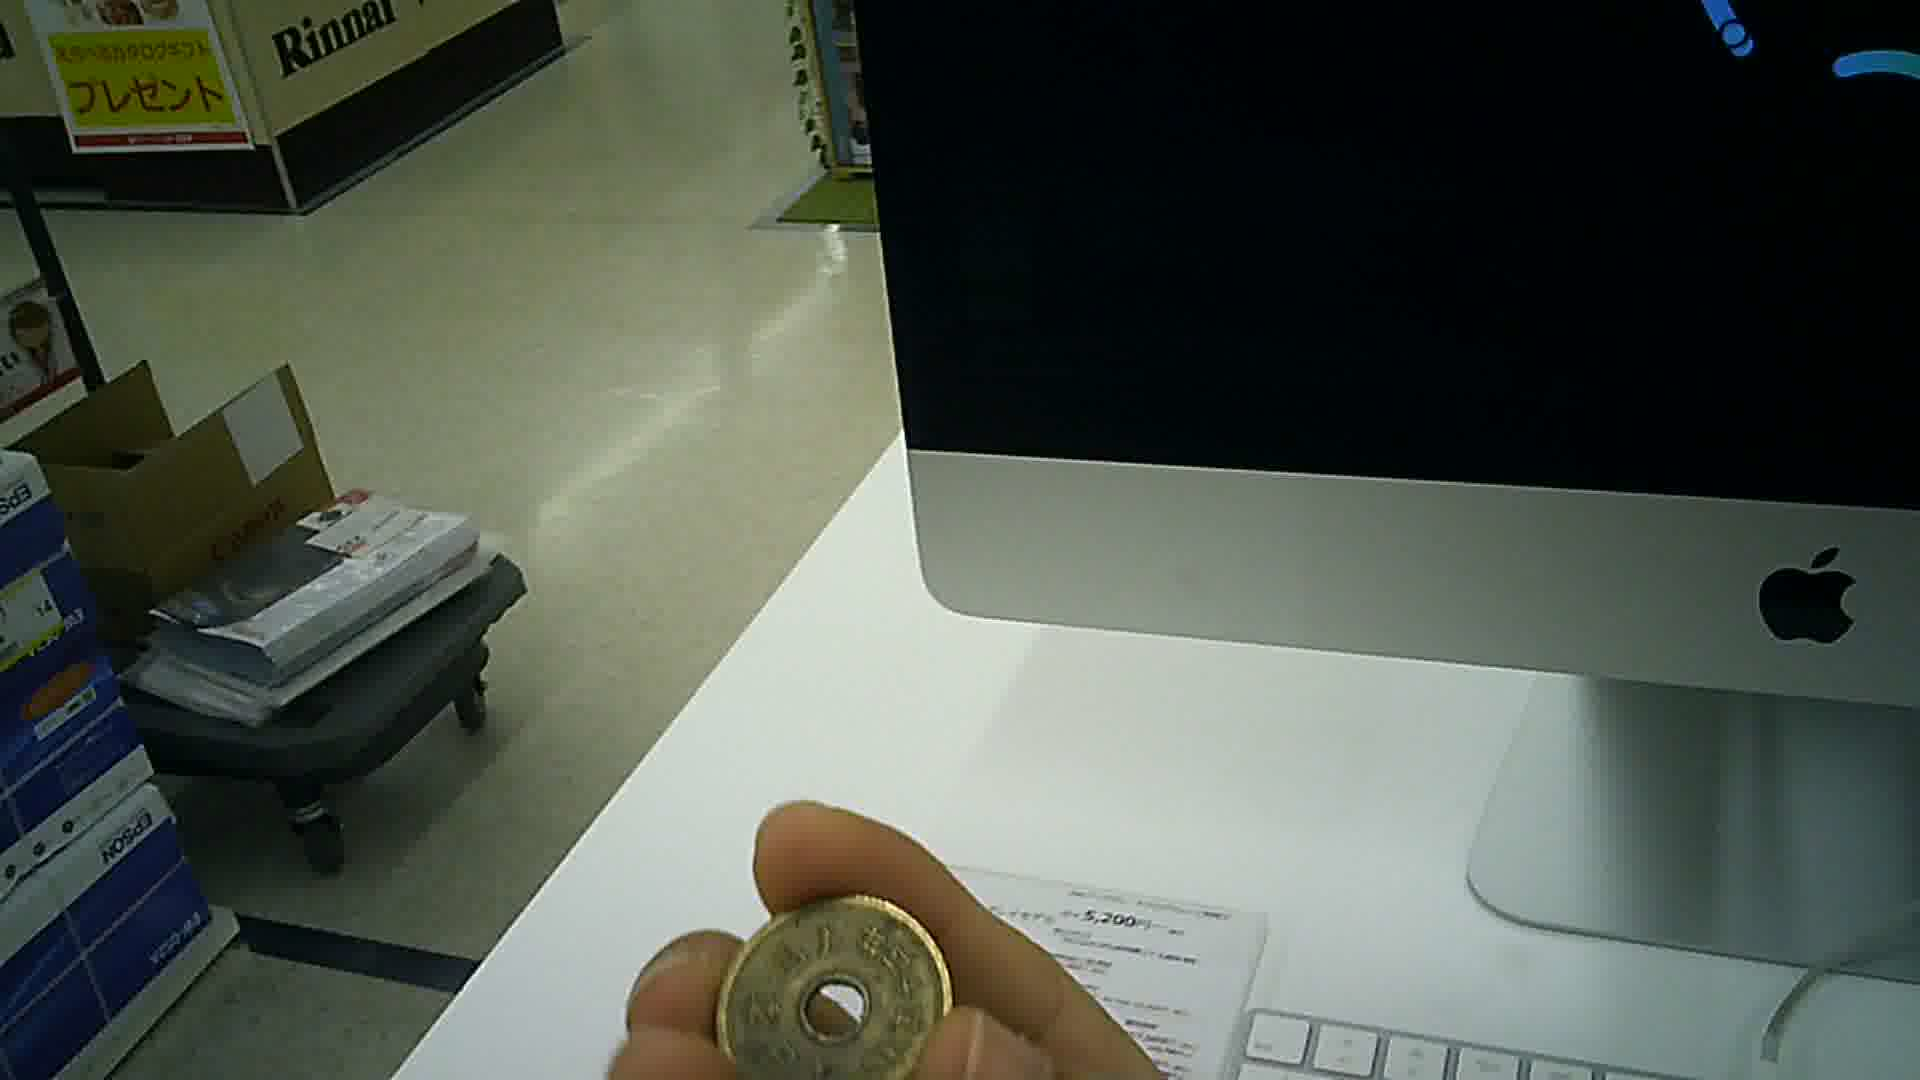5 Yen: (709, 894, 955, 1079)
